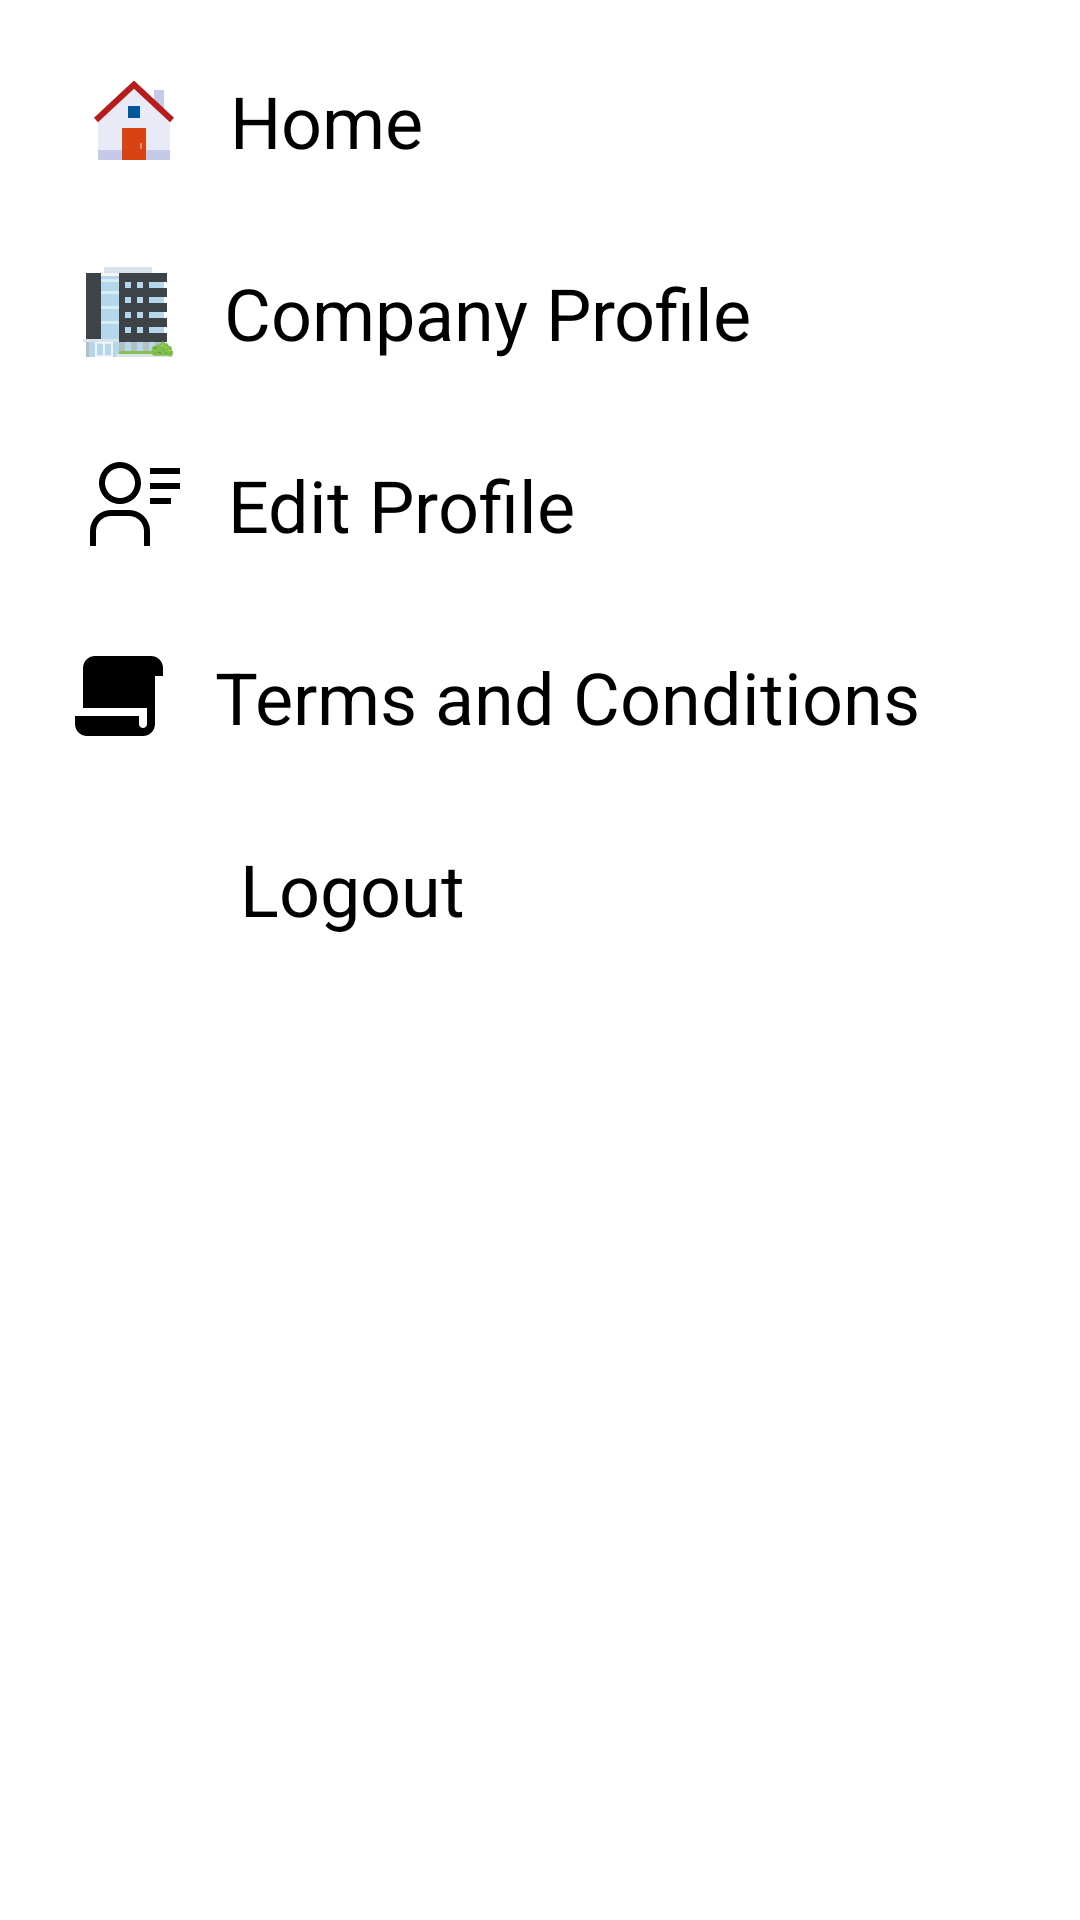

Locate icon controls on the screen. Image size 1080*1920, boxes as [left=x1, top=y1, right=x2, bottom=y2].
office: [left=83, top=267, right=173, bottom=357]
